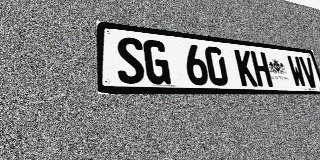0: (204, 46, 229, 86)
6: (183, 43, 210, 85)
G: (143, 39, 171, 85)
H: (250, 51, 273, 87)
K: (234, 49, 258, 86)
S: (116, 36, 146, 84)
V: (298, 56, 319, 88)
W: (286, 55, 307, 87)
